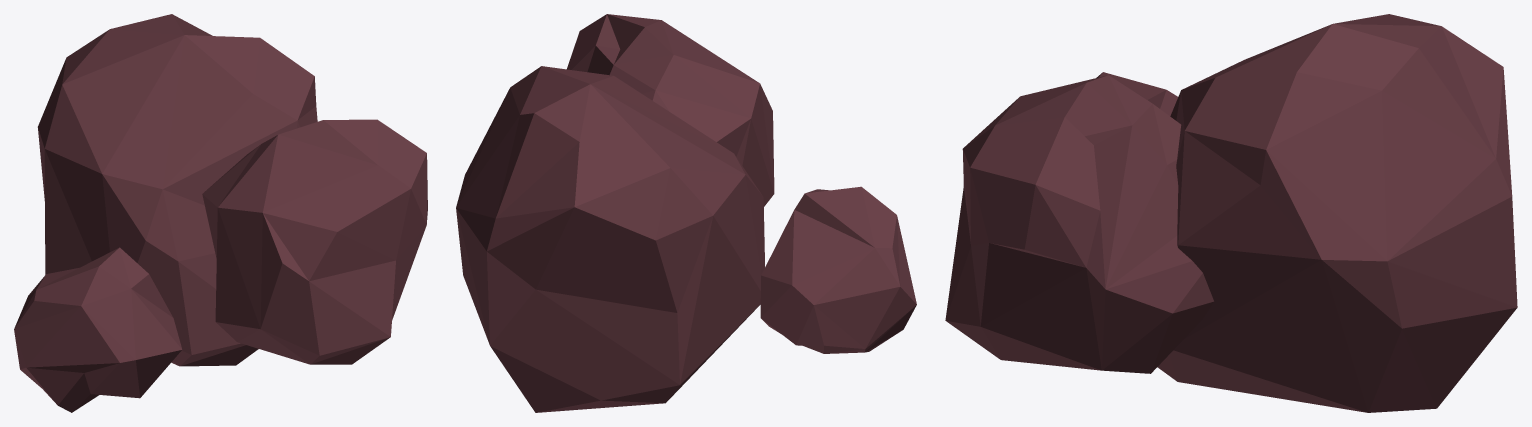
Rendered from pedra- versão 1.fbx.
3 renders of one model, left to right at view 1: azimuth 30°, elevation 25°; view 2: azimuth 150°, elevation 25°; view 3: azimuth 270°, elevation 25°, orthographic. The views are drawn at different scales.
Visible parts, largest first — view 1: pedra - versão 1; view 2: pedra - versão 1; view 3: pedra - versão 1.
Boxes of the visible parts, bbox=[...] form: pedra - versão 1: bbox=[14, 14, 427, 412]; pedra - versão 1: bbox=[456, 14, 916, 412]; pedra - versão 1: bbox=[945, 14, 1517, 412].
Bounding box in the file's own units: 218 × 168 × 231.
